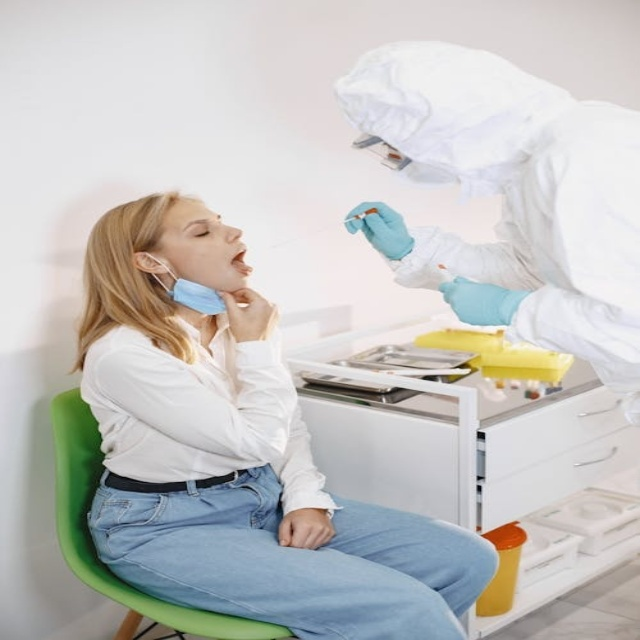Gafas: (352, 134, 411, 172)
Guantes: (438, 275, 531, 329), (344, 201, 415, 262)
Mascara: (397, 159, 463, 191)
Sin_gafas: (170, 211, 229, 241)
Sin_guantes: (214, 284, 278, 343), (277, 507, 337, 550)
Sin_mascara: (205, 243, 257, 284)
